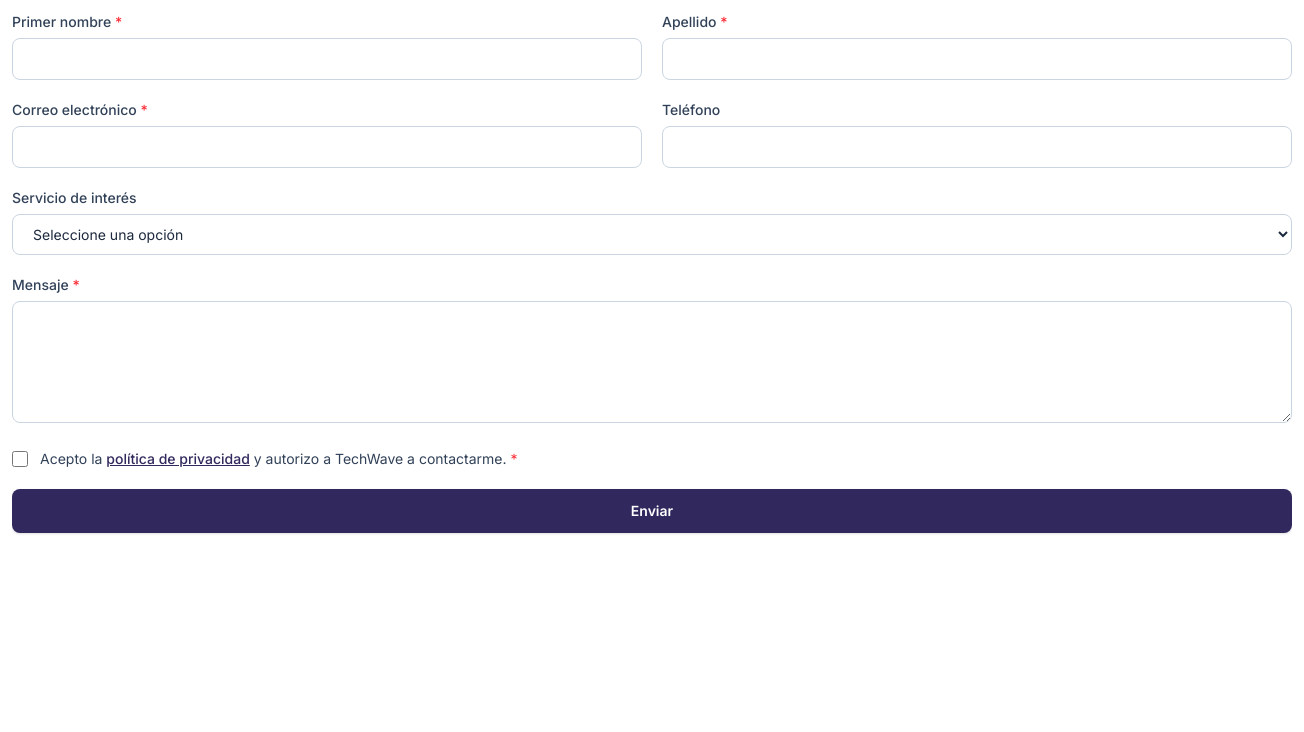
it: ContactForm › valida el formato del correo
The image size is (1304, 732).
In the field labelled "Correo electrónico": [327, 147] box x1=12 y1=126 x2=642 y2=168, type "correo-invalido"
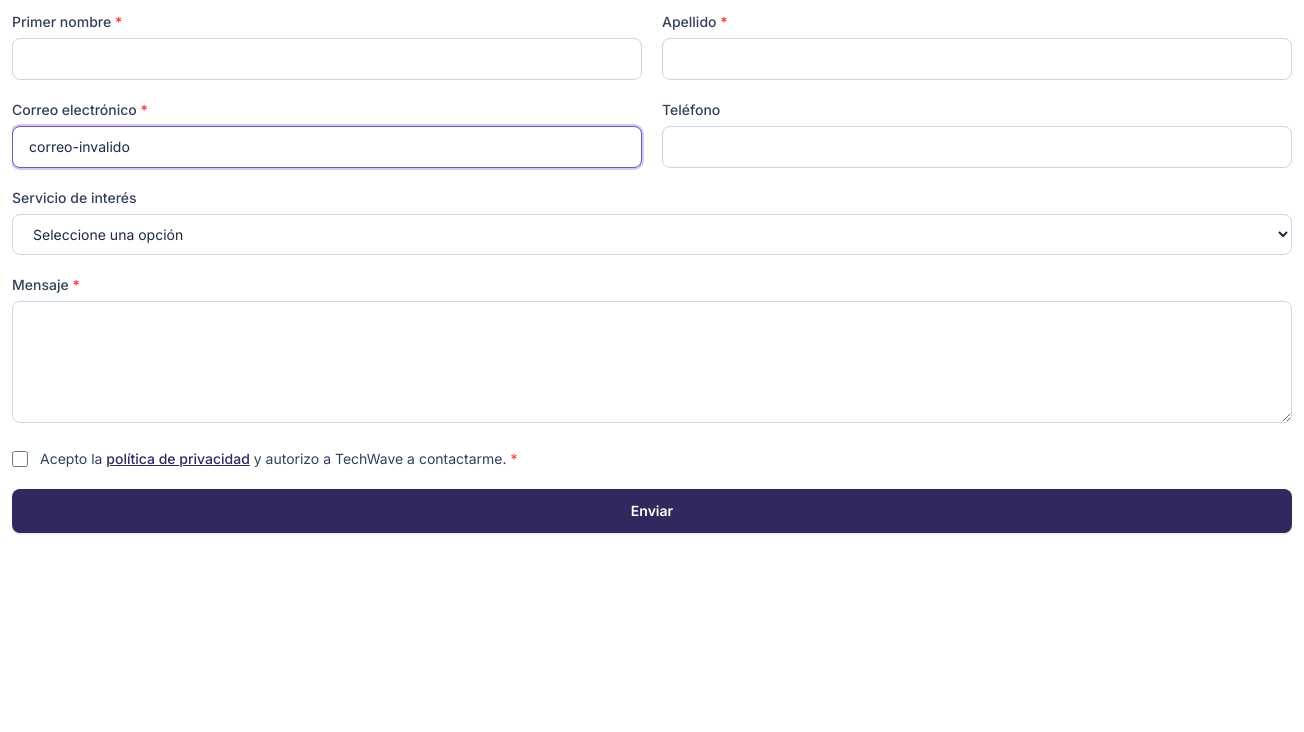
Click the button "Enviar": [652, 511] box x1=12 y1=489 x2=1292 y2=533
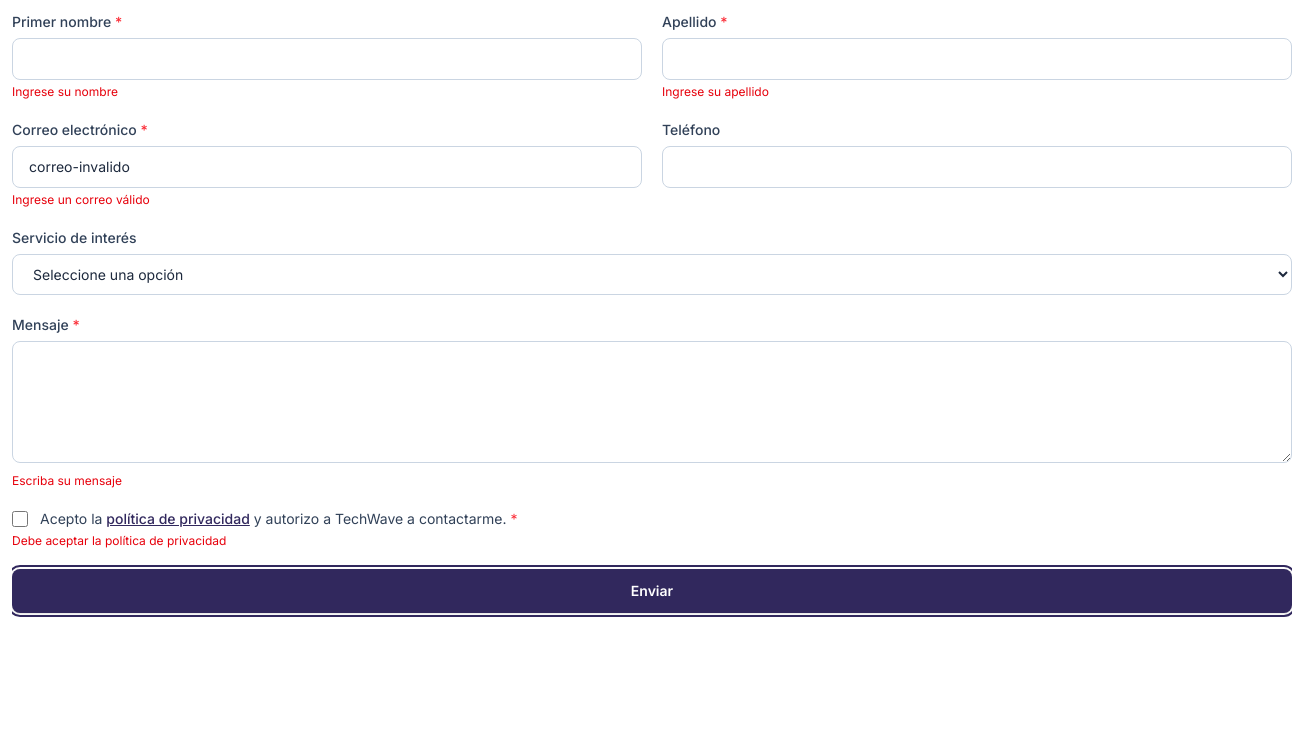
Check: the text "Ingrese un correo válido" is shown, box x1=12 y1=192 x2=150 y2=207
